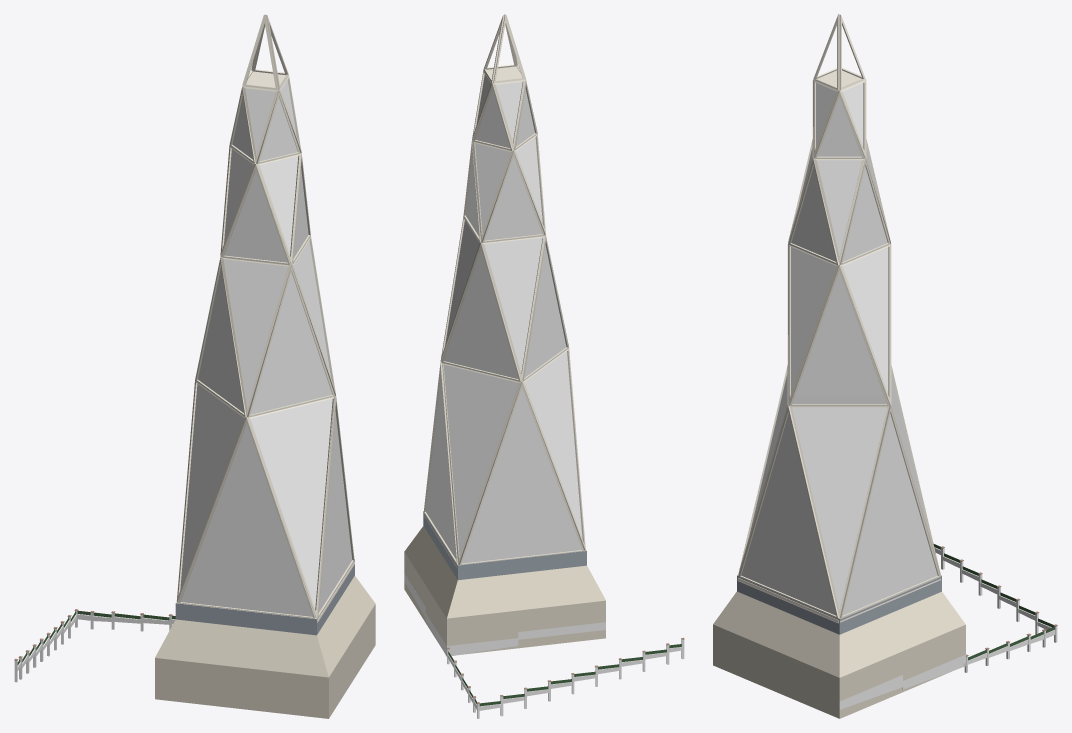
File: tower_pyramid.dae
The picture shows the model from 3 angles, left to right: view 1: azimuth 30°, elevation 25°; view 2: azimuth 150°, elevation 25°; view 3: azimuth 270°, elevation 25°; orthographic projection. The views are drawn at different scales.
Visible parts, largest first — view 1: tower_pyramid_a1000, tower_pyramid_a500, tower_pyramid_a3000; view 2: tower_pyramid_a1000, tower_pyramid_a500, tower_pyramid_a3000; view 3: tower_pyramid_a1000, tower_pyramid_a500, tower_pyramid_a3000.
Part boxes in pixels (box(x1,y1,x2,y2)): tower_pyramid_a1000: box(176, 14, 354, 623); tower_pyramid_a500: box(155, 559, 375, 718); tower_pyramid_a3000: box(14, 609, 175, 682); tower_pyramid_a1000: box(404, 14, 605, 653); tower_pyramid_a500: box(404, 511, 605, 655); tower_pyramid_a3000: box(404, 574, 684, 718); tower_pyramid_a1000: box(737, 14, 965, 709); tower_pyramid_a500: box(713, 575, 965, 718); tower_pyramid_a3000: box(839, 544, 1057, 709).
Size of the model in its own units: 108 by 97.65 by 208.
